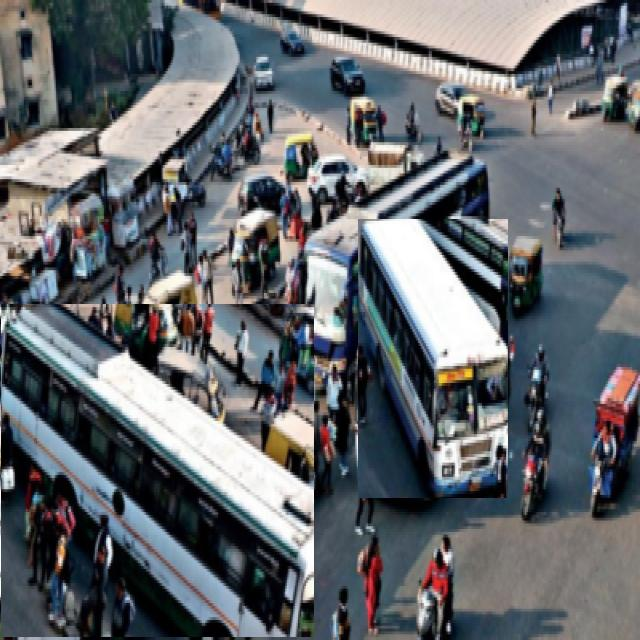bus: (0, 304, 314, 637), (358, 220, 508, 498)
